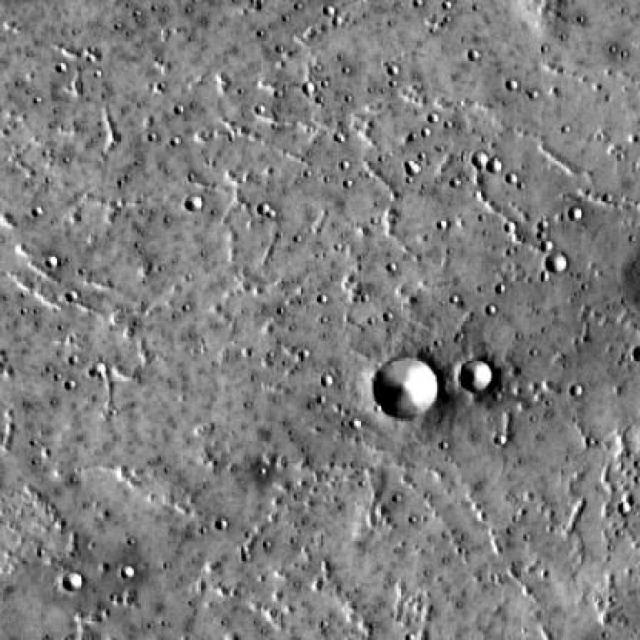crater: (373, 359, 436, 419), (460, 362, 498, 396), (550, 253, 572, 273), (61, 570, 81, 588), (185, 194, 204, 211)
